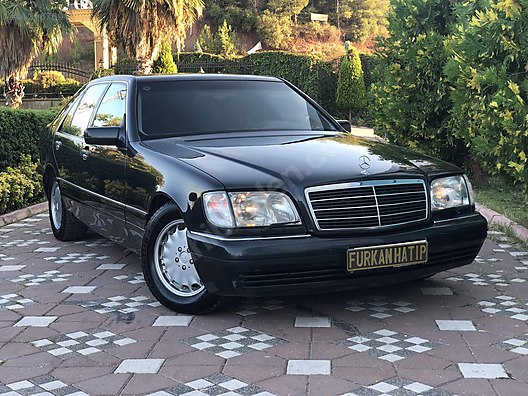mercedes: (33, 68, 498, 313)
